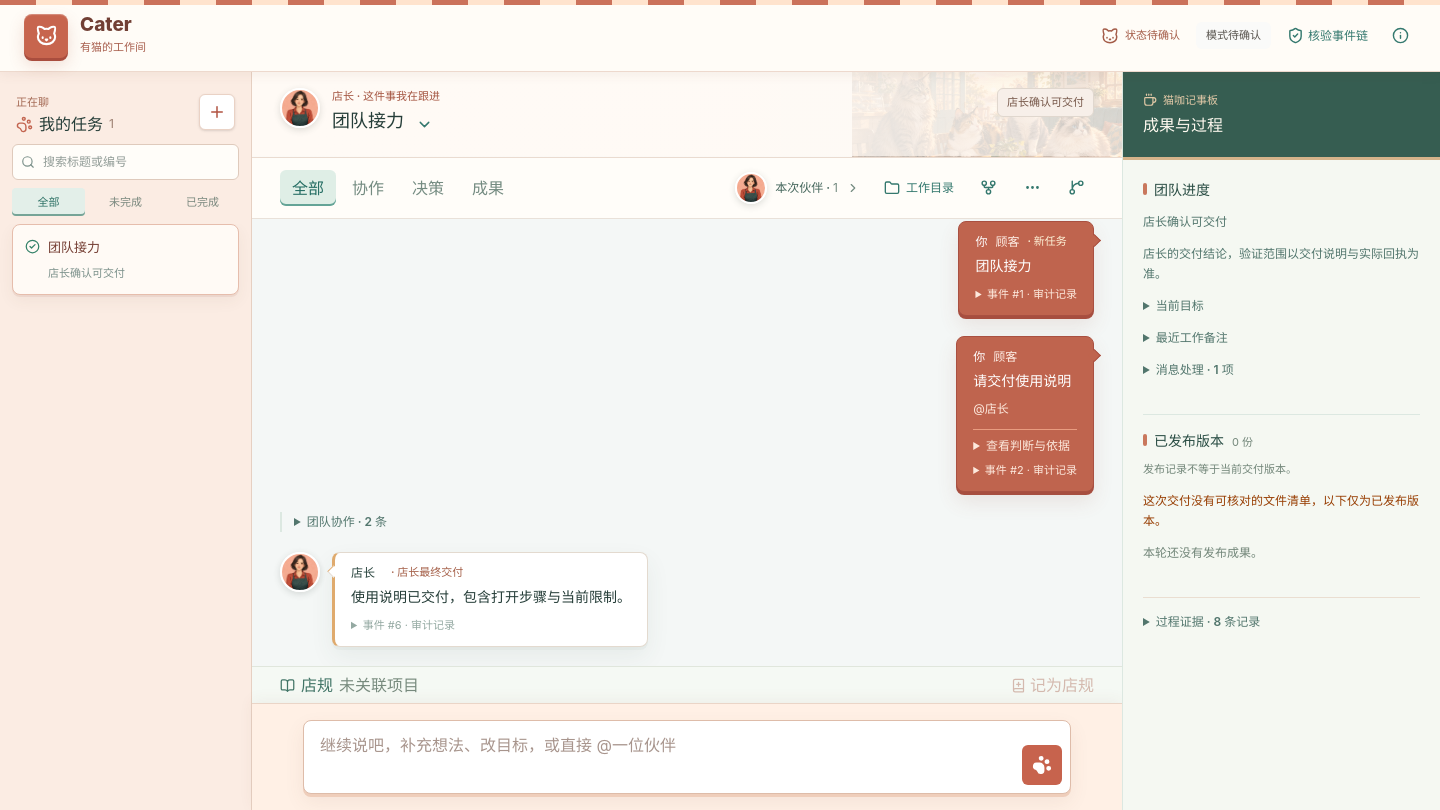
it: 多段外部进展保留折叠正文，正式交付到达后只替换完成摘要，不重复进过程
This screenshot has width=1440, height=810.
(page scrolled)
Check: the element "团队进度" is shown, box [1143, 180, 1420, 394]
Check: the text "使用说明已交付，包含打开步骤与当前限制。" is shown once, box [351, 584, 631, 609]
Click the heading "团队协作 · 2 条": x=347, y=521 [307, 514, 387, 528]
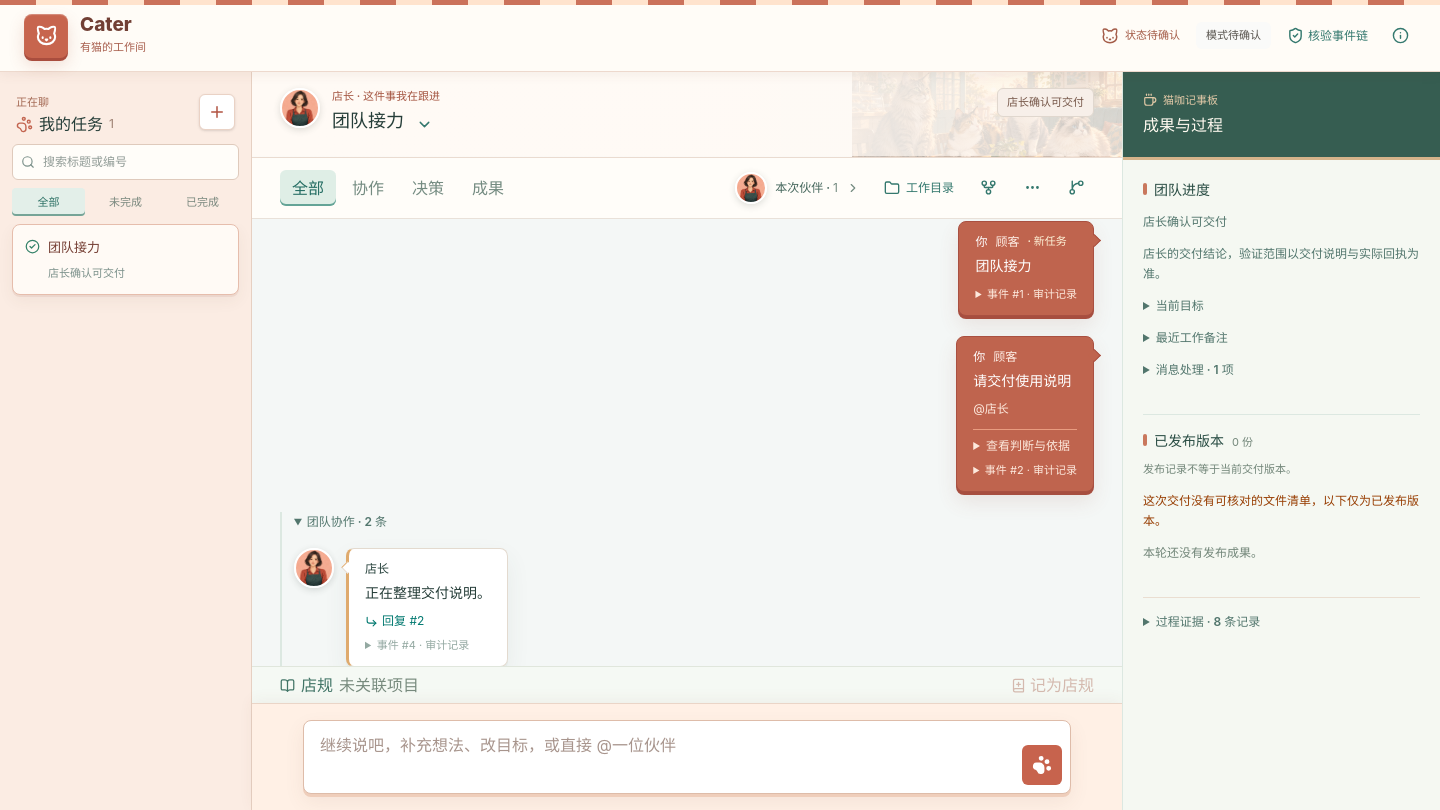
Check: the text "正在整理交付说明。" is shown once, box [365, 580, 491, 605]
Check: the text "使用说明已交付，包含打开步骤与当前限制。" is gone
